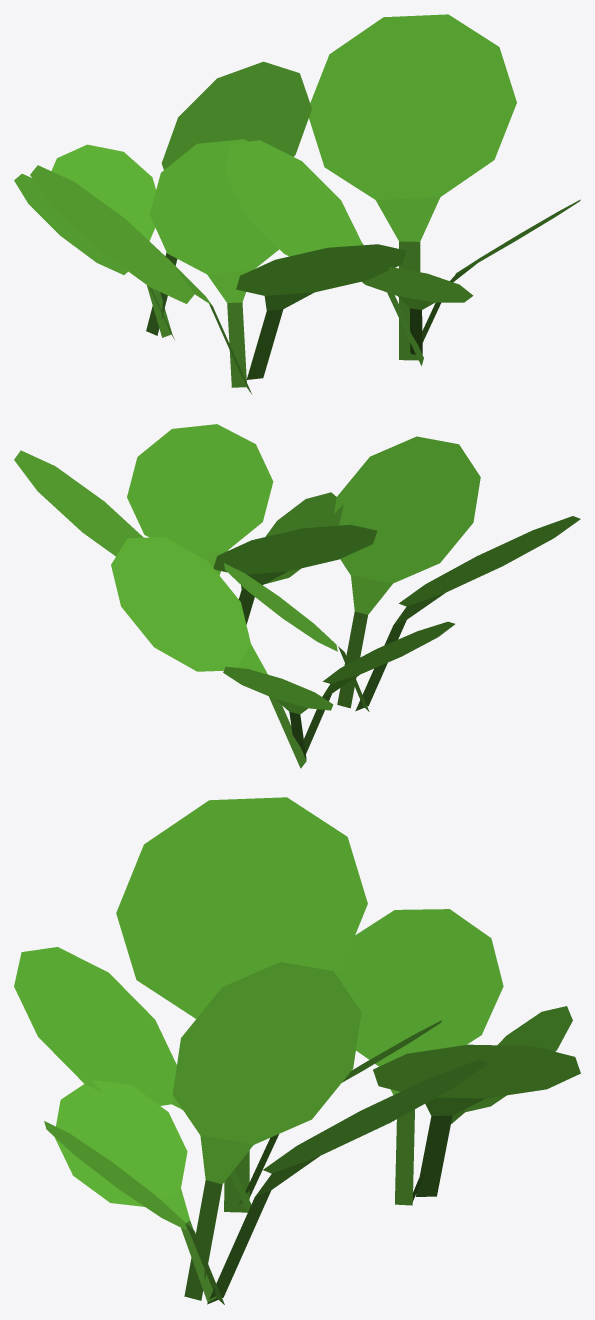
File: waterPlant.fbx
3 views of the same model, one above another, from view 1: azimuth 30°, elevation 25°; view 2: azimuth 150°, elevation 25°; view 3: azimuth 270°, elevation 25° (orthographic). The views are drawn at different scales.
Visible parts, largest first — view 1: waterPlant; view 2: waterPlant; view 3: waterPlant.
Part boxes in pixels (x1,y1,x2,y2): waterPlant: [14, 14, 580, 394]; waterPlant: [14, 424, 580, 768]; waterPlant: [14, 797, 580, 1304].
Bounding box in the file's own units: 86.19 × 40.34 × 69.21.
